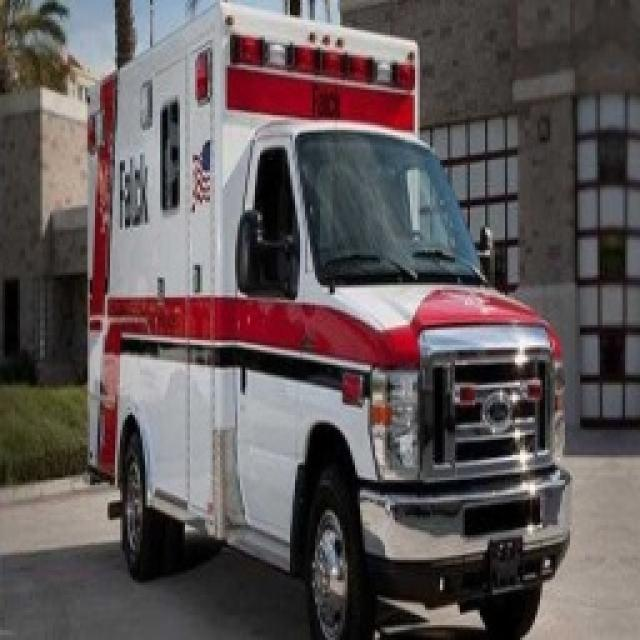ambulance: (92, 3, 570, 635)
